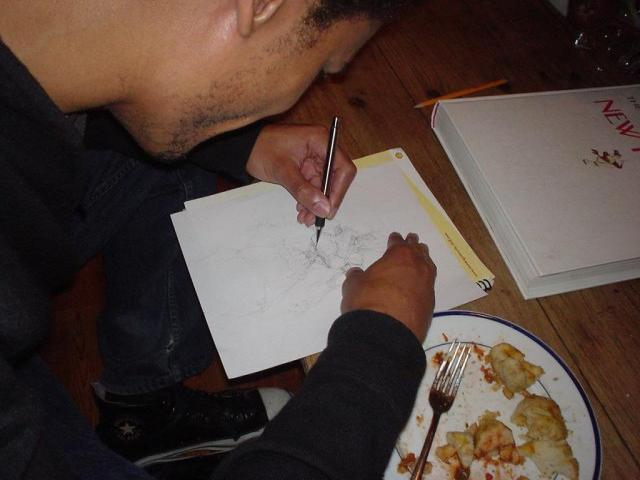PEN: (304, 110, 347, 244)
